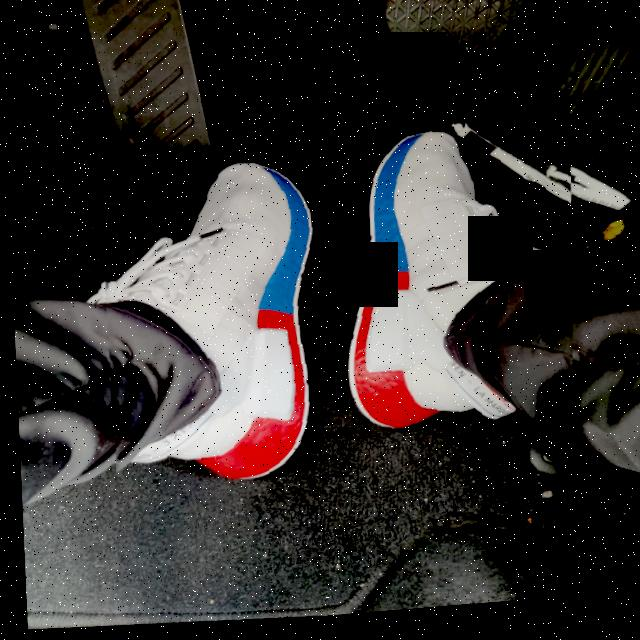shoe: (83, 143, 331, 516), (317, 103, 580, 454)
